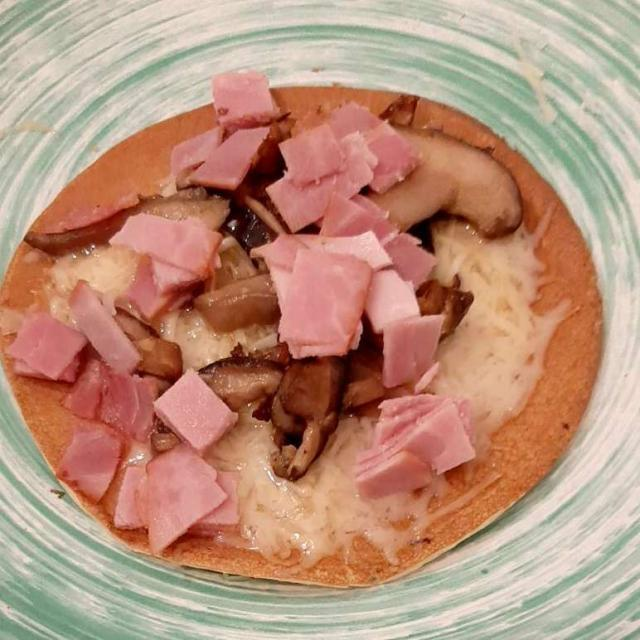cheese: (50, 234, 559, 554)
crepe: (12, 95, 593, 575)
ham: (17, 79, 471, 553)
